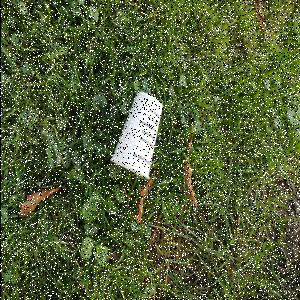Cup: (108, 91, 165, 183)
